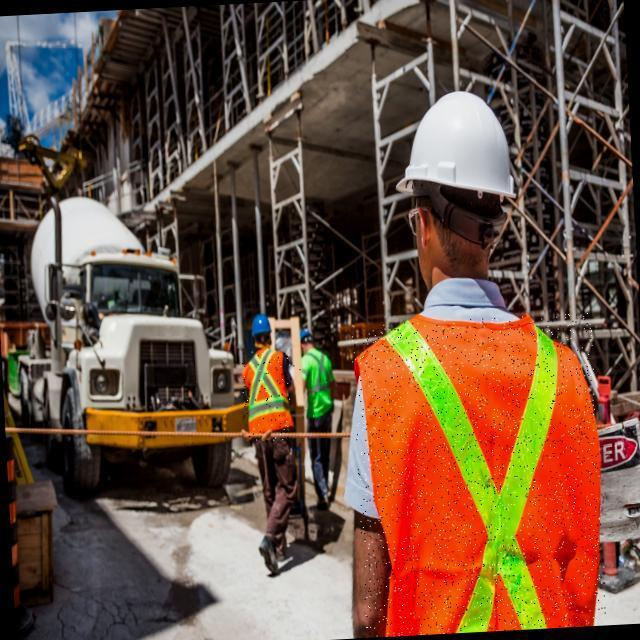helmet: (401, 83, 522, 207), (245, 307, 275, 345)
vest: (351, 313, 608, 638), (241, 350, 299, 442), (297, 354, 338, 425)
